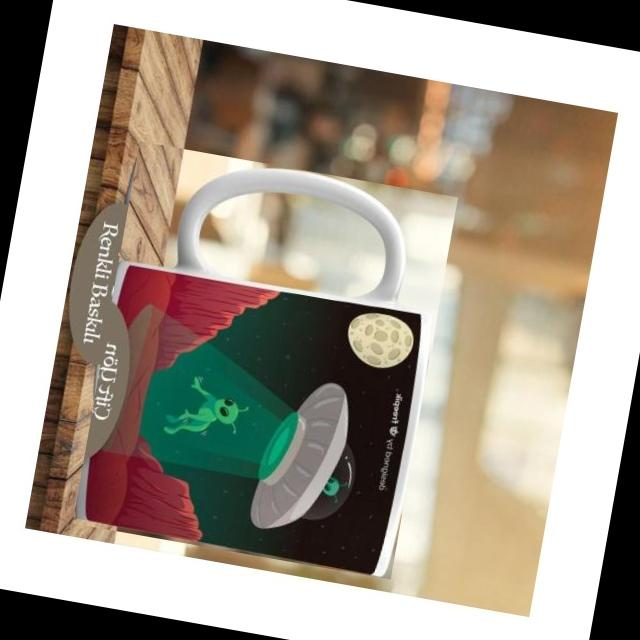Coffee Mug: (71, 142, 456, 580)
